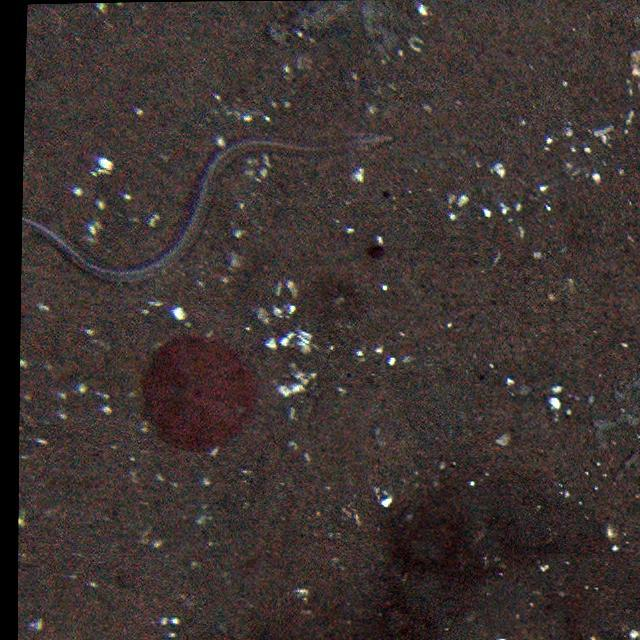eel: (24, 128, 397, 292)
